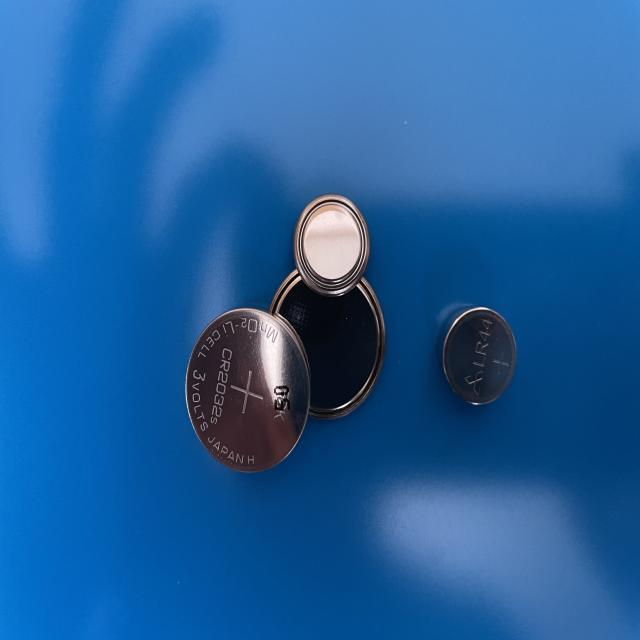COIN: (178, 307, 312, 477), (262, 264, 388, 424), (292, 192, 373, 300), (440, 303, 518, 409)
